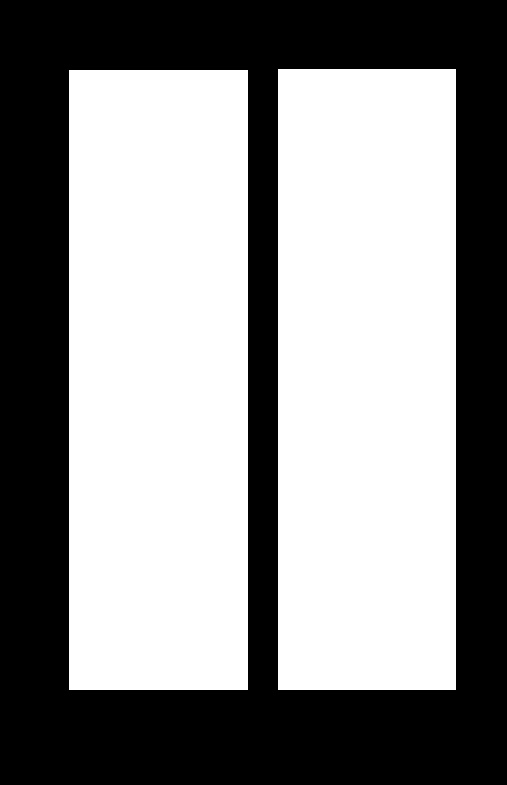table: (69, 70, 247, 689), (278, 69, 455, 689)
